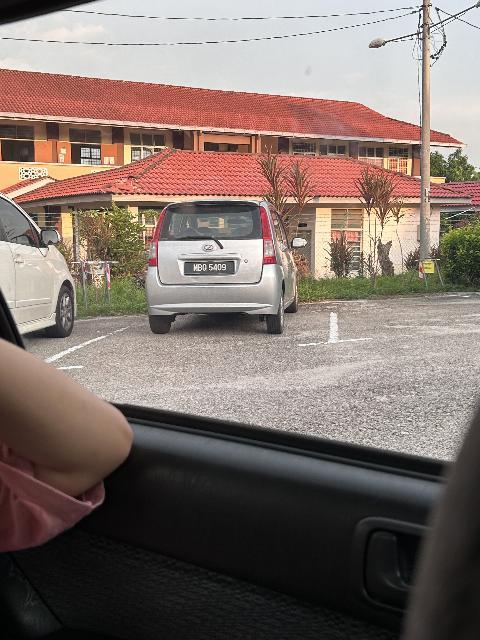License_Plate: (183, 261, 238, 277)
car: (144, 196, 310, 338)
